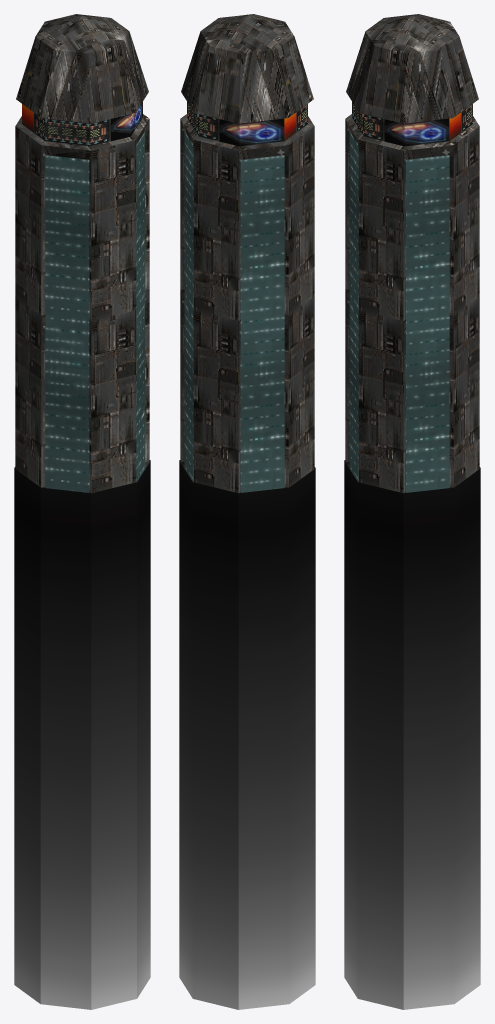
The picture shows the model from 3 angles, left to right: view 1: azimuth 30°, elevation 25°; view 2: azimuth 150°, elevation 25°; view 3: azimuth 330°, elevation 25°; orthographic projection.
Visible parts, largest first — view 1: SubA02, SubA01, SubB01, B_Tower; view 2: SubA02, SubA01, SubB01, B_Tower; view 3: SubA02, SubA01, SubB01, B_Tower.
Boxes of the visible parts, left/top/right/bottom form: SubA02: left=14, top=460, right=150, bottom=1009; SubA01: left=15, top=114, right=149, bottom=493; SubB01: left=16, top=14, right=148, bottom=123; B_Tower: left=22, top=102, right=142, bottom=146; SubA02: left=179, top=460, right=315, bottom=1009; SubA01: left=180, top=114, right=314, bottom=493; SubB01: left=181, top=14, right=313, bottom=123; B_Tower: left=187, top=102, right=307, bottom=146; SubA02: left=344, top=460, right=480, bottom=1009; SubA01: left=345, top=114, right=479, bottom=493; SubB01: left=346, top=14, right=478, bottom=123; B_Tower: left=352, top=102, right=472, bottom=146.
Bounding box in the file's own units: 31.35 × 262 × 31.35.
4 materials, 4 textured.
